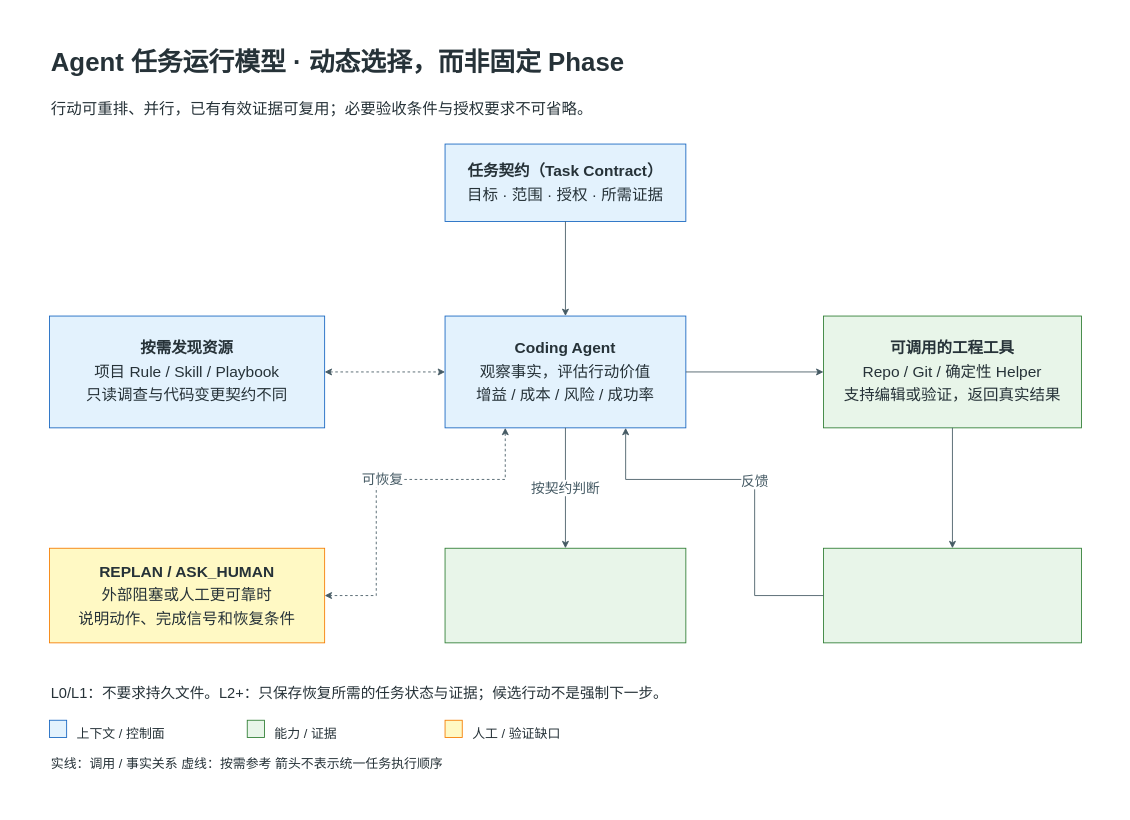
This 1130x820 diagram has some shape labels left out. Here are the shapes that lost their labels. From the top down, the box of each, then its label:
(444, 547, 686, 643): 证据充分时完成 结果、风险和未执行项披露 不足则继续选择行动
(823, 547, 1081, 643): 工具返回证据 真实结果 / 失败 / 不可用 不能把未知包装为成功
